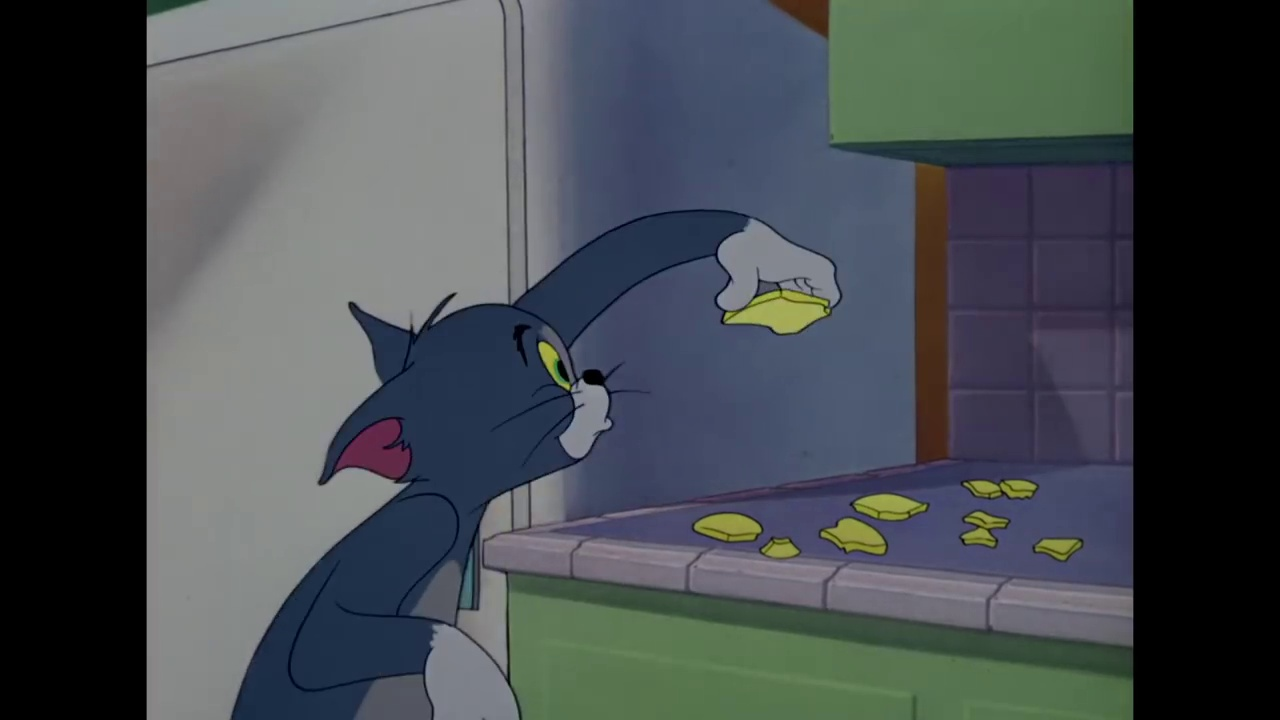tom: (312, 290, 623, 494)
